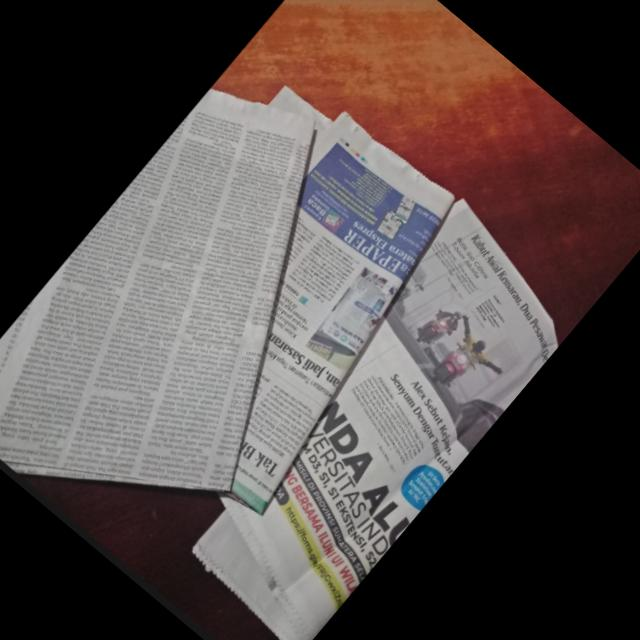KertasBekas: (0, 29, 595, 640)
